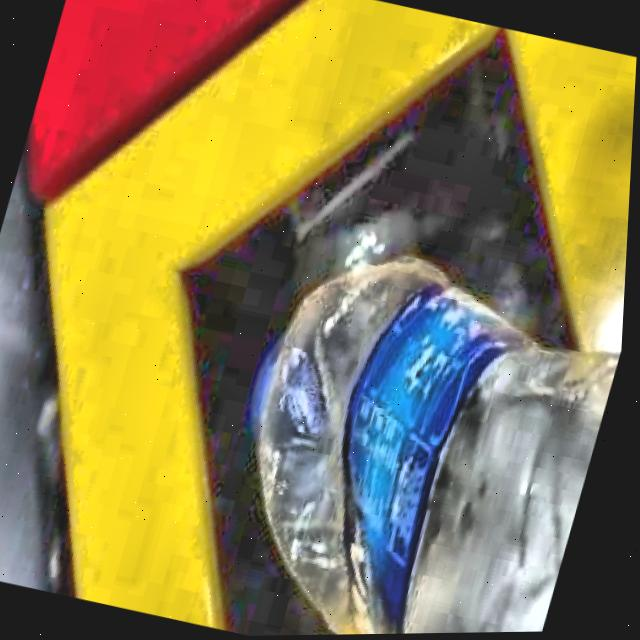plastic: (259, 256, 622, 636)
